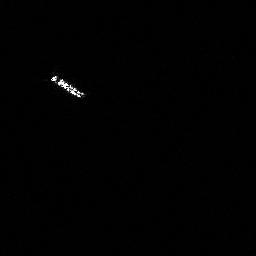ship: (48, 72, 89, 100)
